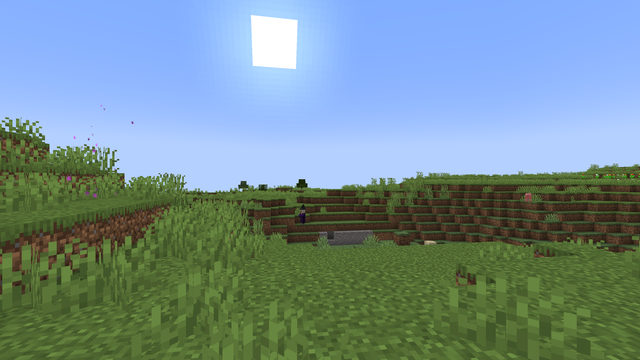cochons: (521, 193, 534, 200)
sorcieres: (300, 208, 305, 224)
